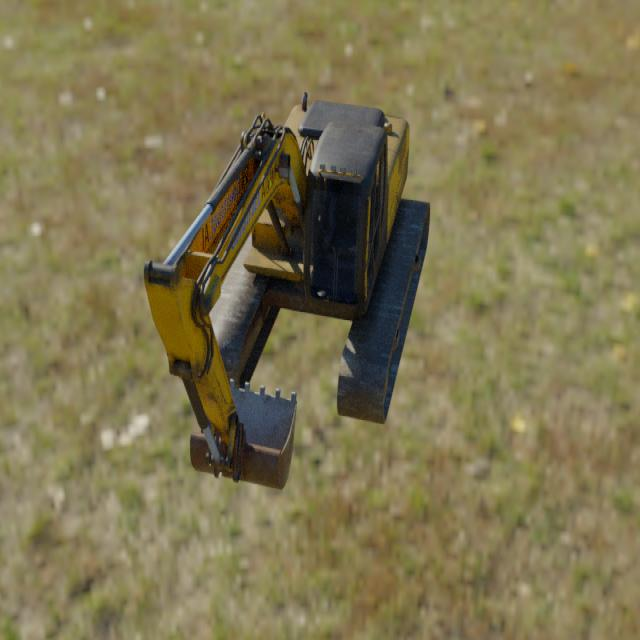excavator: (143, 90, 430, 490)
